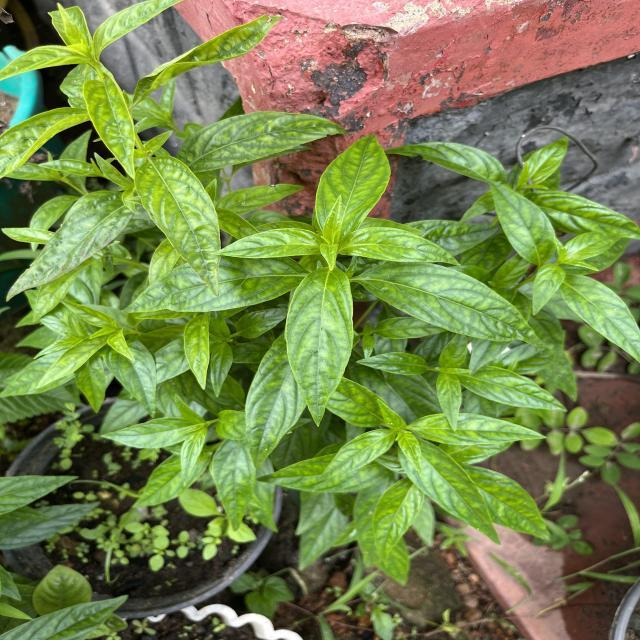Andrographis paniculata: (356, 260, 546, 354), (5, 191, 132, 303), (133, 154, 225, 299), (283, 266, 357, 428), (398, 438, 504, 546), (178, 109, 349, 172), (314, 132, 395, 240), (244, 334, 302, 472), (558, 274, 640, 366), (464, 461, 554, 543), (486, 177, 556, 266), (81, 72, 137, 182), (531, 189, 640, 241), (340, 226, 466, 268), (383, 141, 508, 183), (459, 364, 568, 412), (410, 412, 550, 446), (104, 333, 158, 419), (130, 453, 212, 509), (34, 331, 111, 390), (372, 478, 424, 565), (210, 440, 256, 533), (316, 428, 390, 482), (212, 227, 328, 261), (98, 417, 198, 448), (216, 184, 306, 216), (182, 314, 214, 388), (530, 262, 566, 316), (356, 351, 426, 376), (435, 372, 463, 432)
